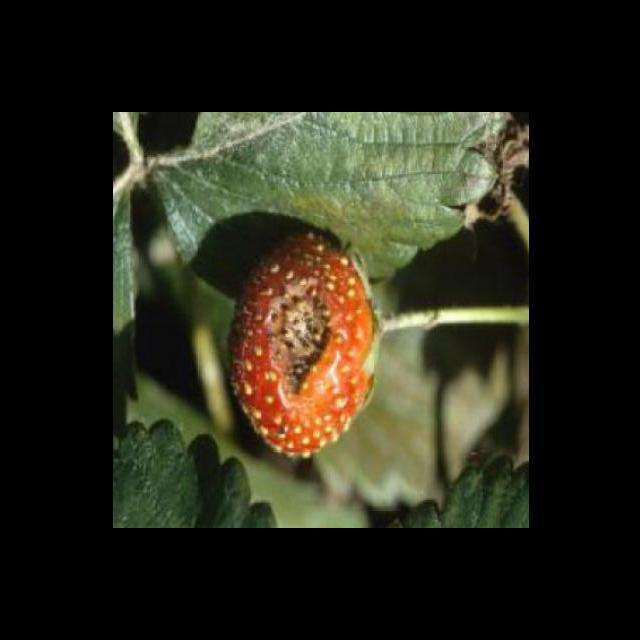Anthracnose Fruit Rot: (262, 263, 333, 413)
